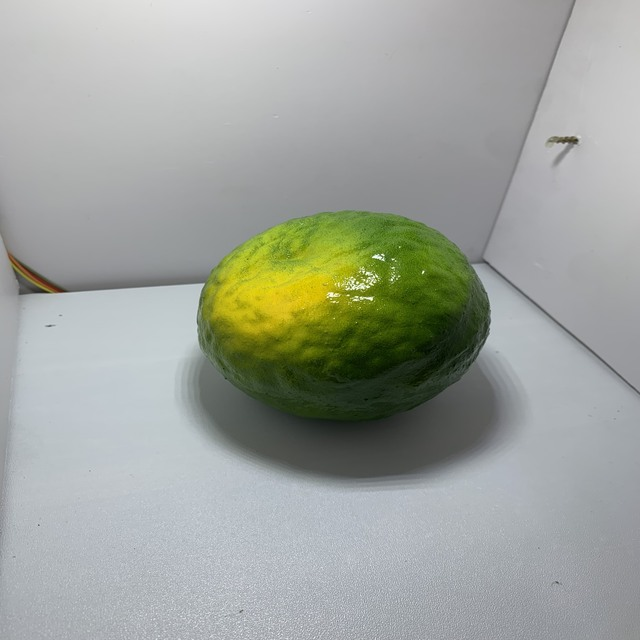Cam xanh: (187, 203, 499, 429)
